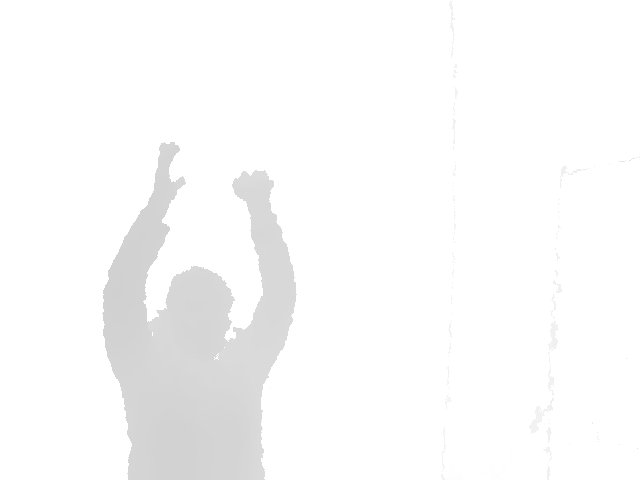hand: (148, 141, 187, 210), (231, 169, 276, 209)
head: (163, 267, 235, 363)
person: (101, 141, 298, 479)
